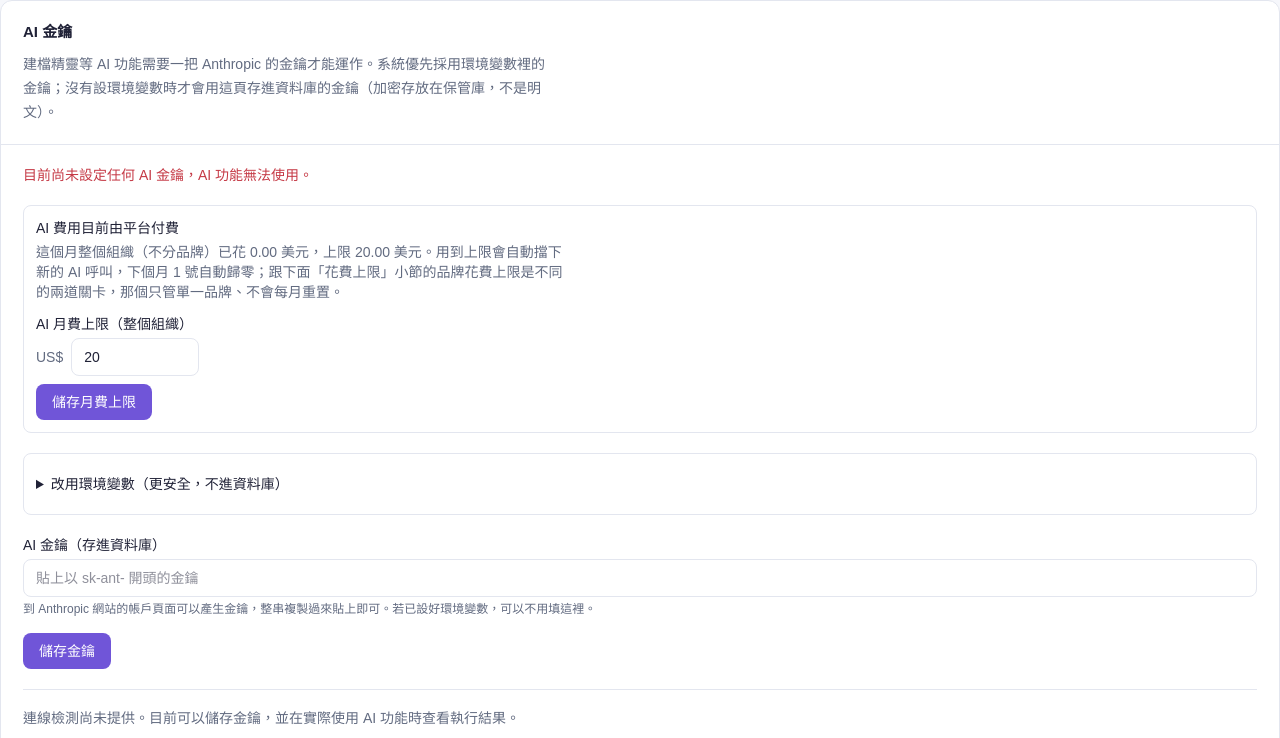
settings fields send the typed text and print the server's sentence › the AI monthly limit and the AI key print the server's sentences
Clear the field labelled "AI 月費上限（整個組織）" at (135, 356), box left=71, top=338, right=199, bottom=376
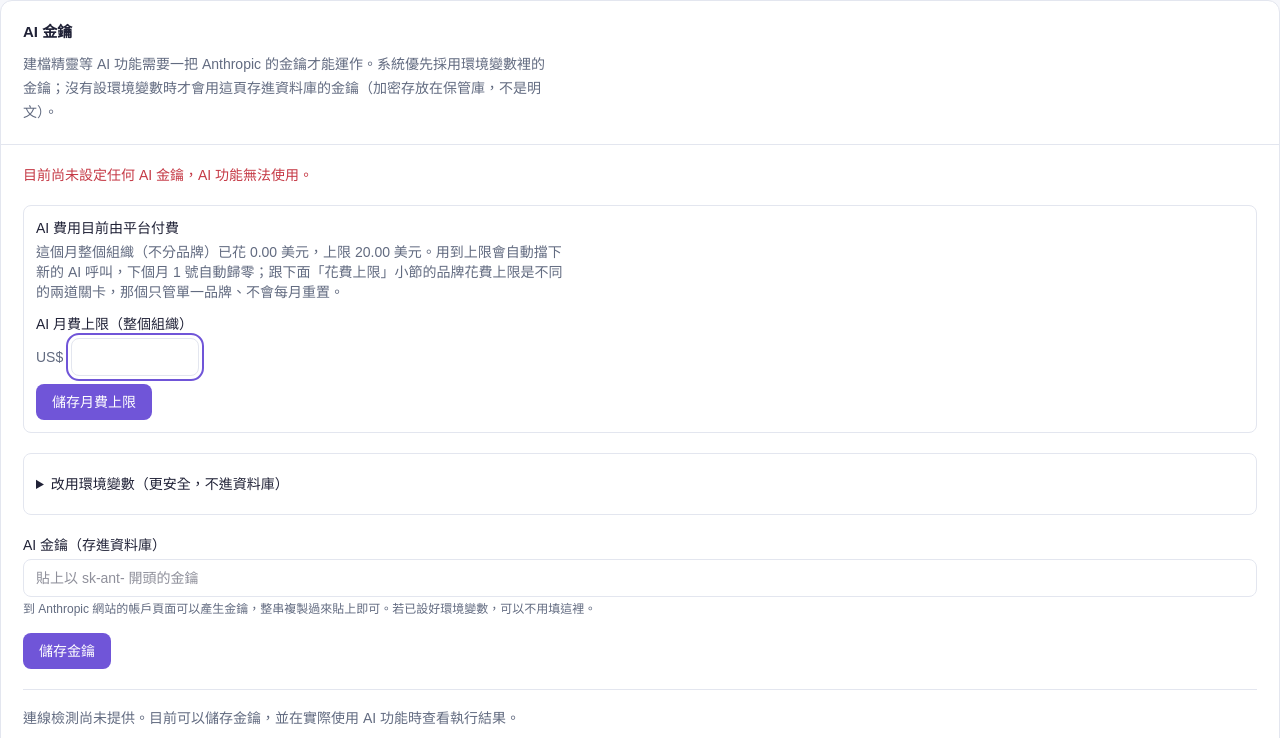
Click the button "儲存月費上限" at (94, 402), box left=36, top=384, right=152, bottom=420
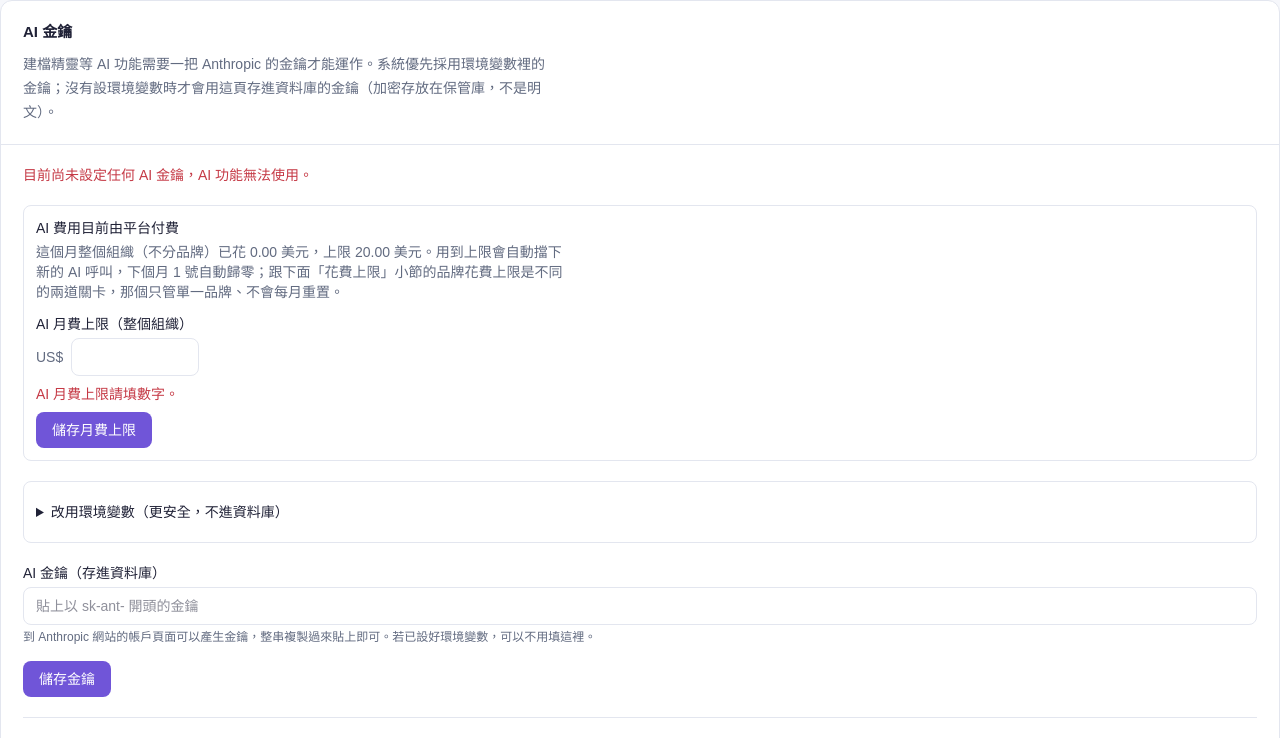
Result: the text "AI 月費上限請填數字。" is shown at left=36, top=386, right=179, bottom=402
Type "abc" into the password field with placeholder "貼上以 sk-ant- 開頭的金鑰" at (640, 606), box left=23, top=586, right=1257, bottom=624
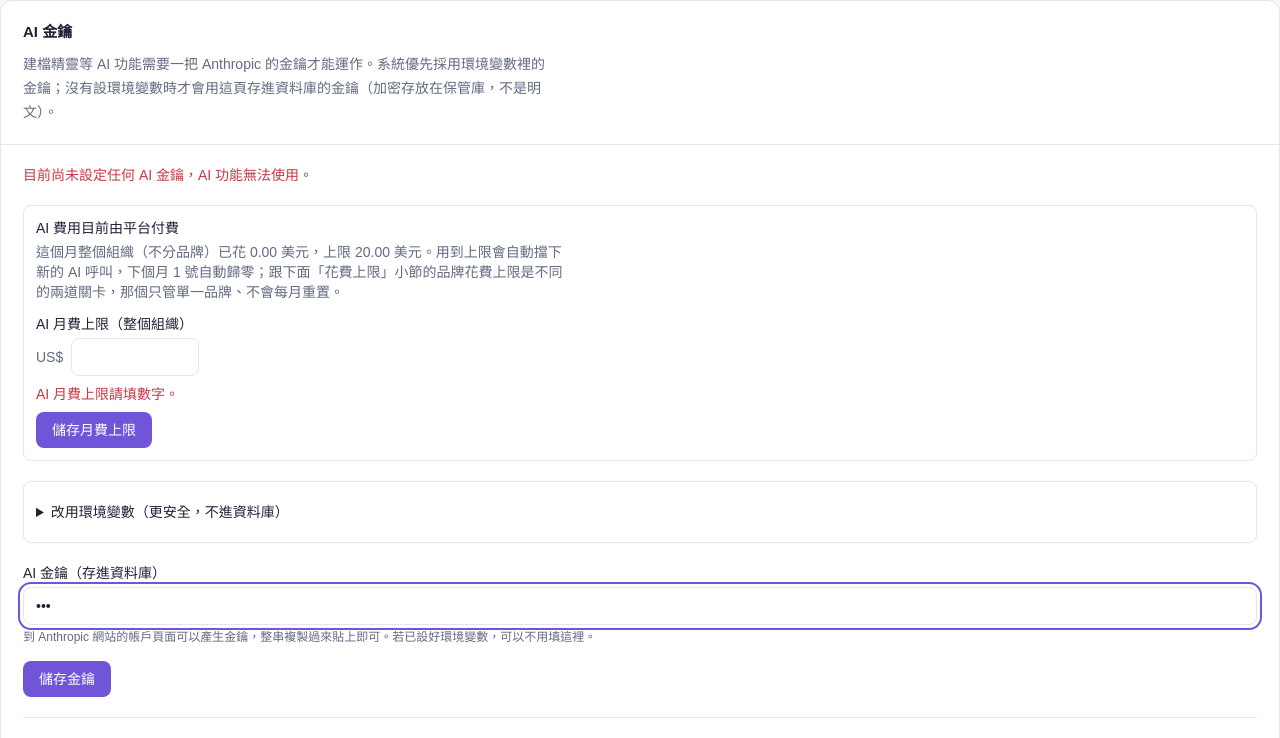
Click the button "儲存金鑰" at (67, 678), box left=23, top=660, right=111, bottom=696
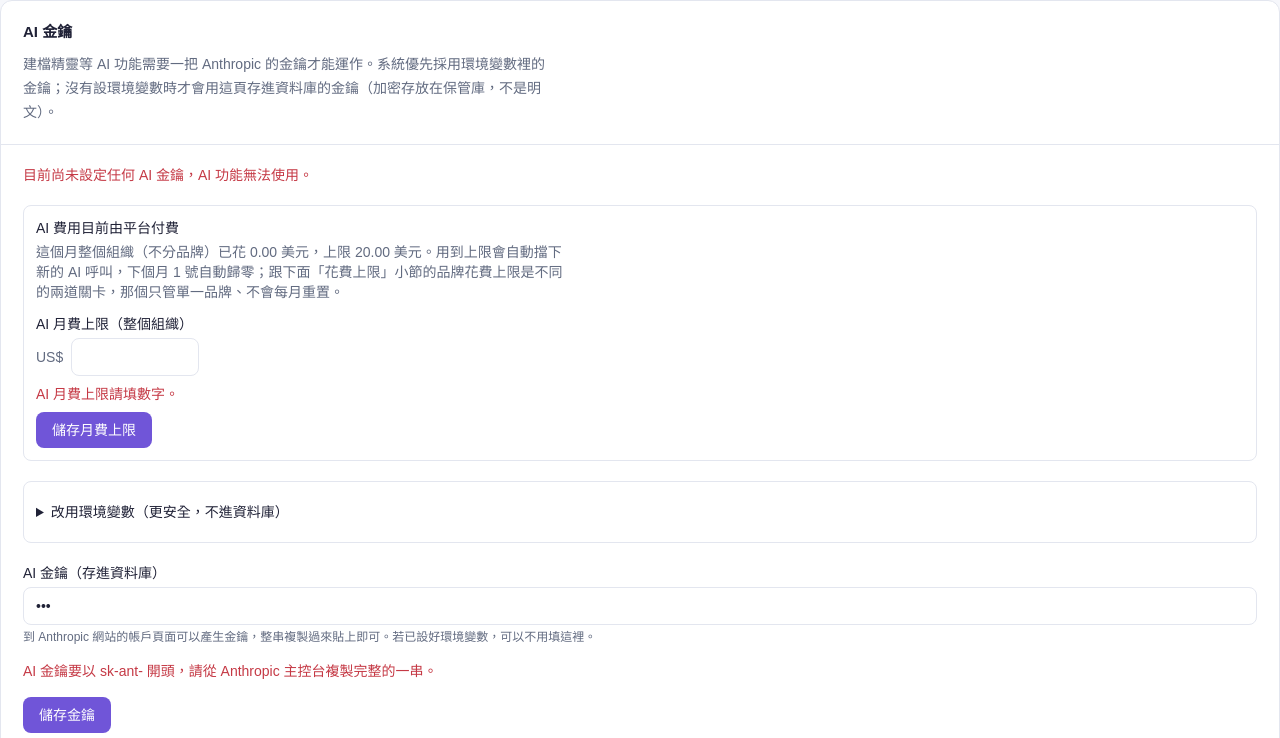
Result: the text "AI 金鑰要以 sk-ant- 開頭，請從 Anthropic 主控台複製完整的一串。" is shown at left=23, top=662, right=438, bottom=678
